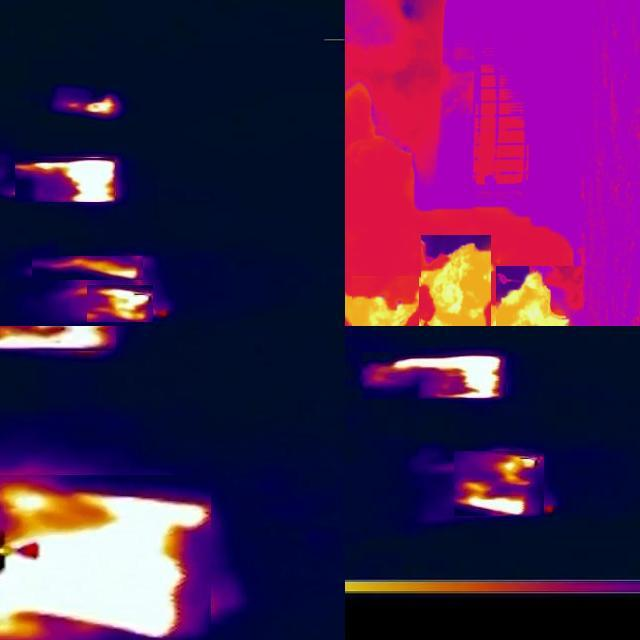fire: (1, 475, 212, 640), (363, 352, 507, 399), (422, 235, 492, 327), (455, 451, 545, 516), (497, 266, 585, 327), (16, 158, 116, 202), (353, 276, 420, 327), (1, 327, 117, 351), (33, 256, 144, 280), (88, 285, 154, 322), (64, 95, 122, 115)
